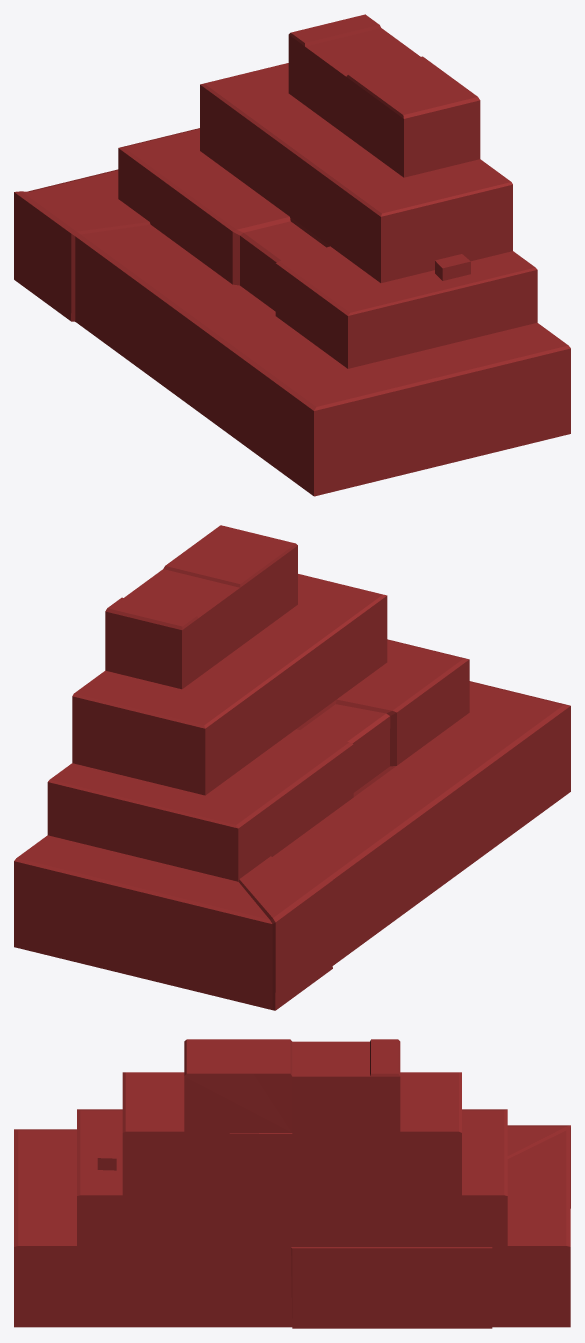
File: SM_C_Stairs_01.fbx
The picture shows the model from 3 angles, top to bottom: view 1: azimuth 30°, elevation 25°; view 2: azimuth 150°, elevation 25°; view 3: azimuth 270°, elevation 25°; orthographic projection. The views are drawn at different scales.
Parts seen in each view (by area): view 1: SM_C_Stairs_01; view 2: SM_C_Stairs_01; view 3: SM_C_Stairs_01.
Boxes of the visible parts, x1=… form: SM_C_Stairs_01: x1=14, y1=14, x2=570, y2=496; SM_C_Stairs_01: x1=14, y1=525, x2=570, y2=1010; SM_C_Stairs_01: x1=14, y1=1039, x2=570, y2=1328.
Bounding box in the file's own units: 410 × 401 × 800.
